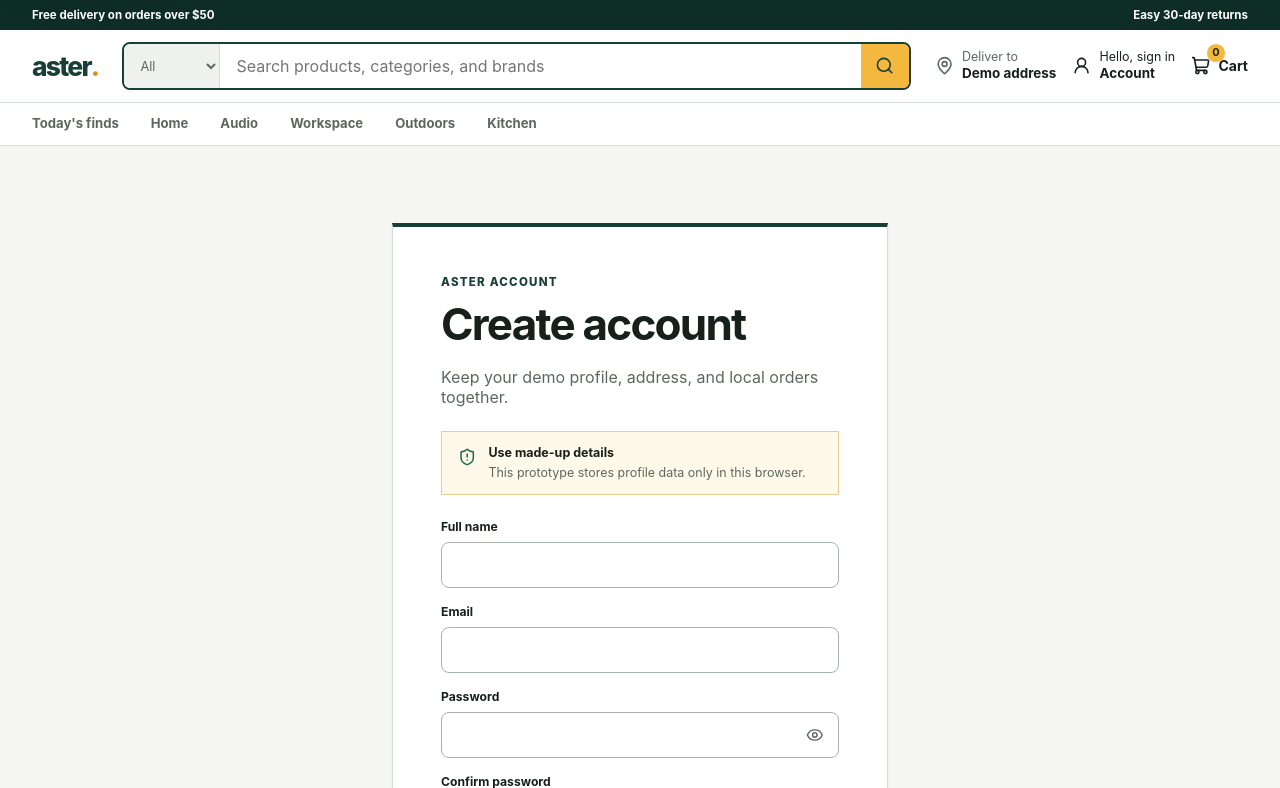
demo account experience › creates a local account without persisting the password
The image size is (1280, 788).
In the field labelled "Full name": (640, 565) [441,542,839,588], type "Jamie Rivera"
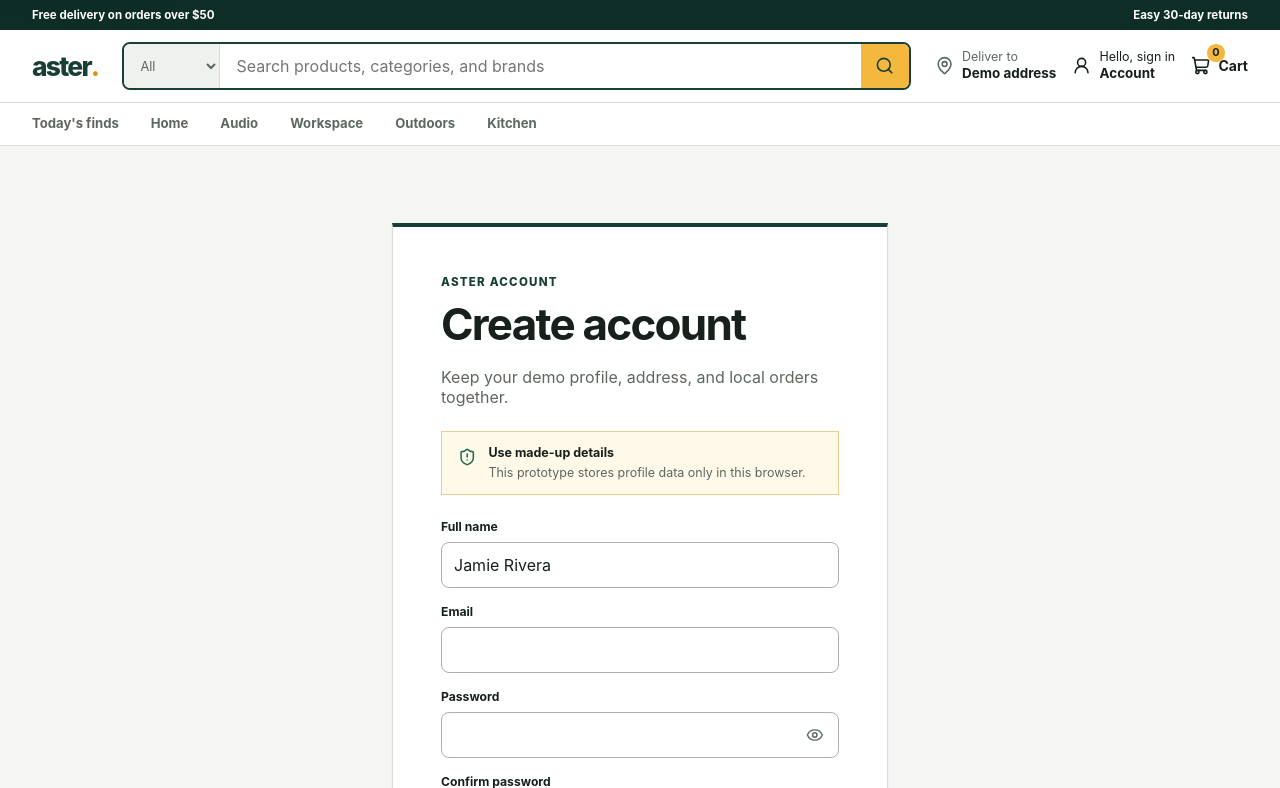
In the field labelled "Email": (640, 650) [441,627,839,673], type "jamie@example.com"
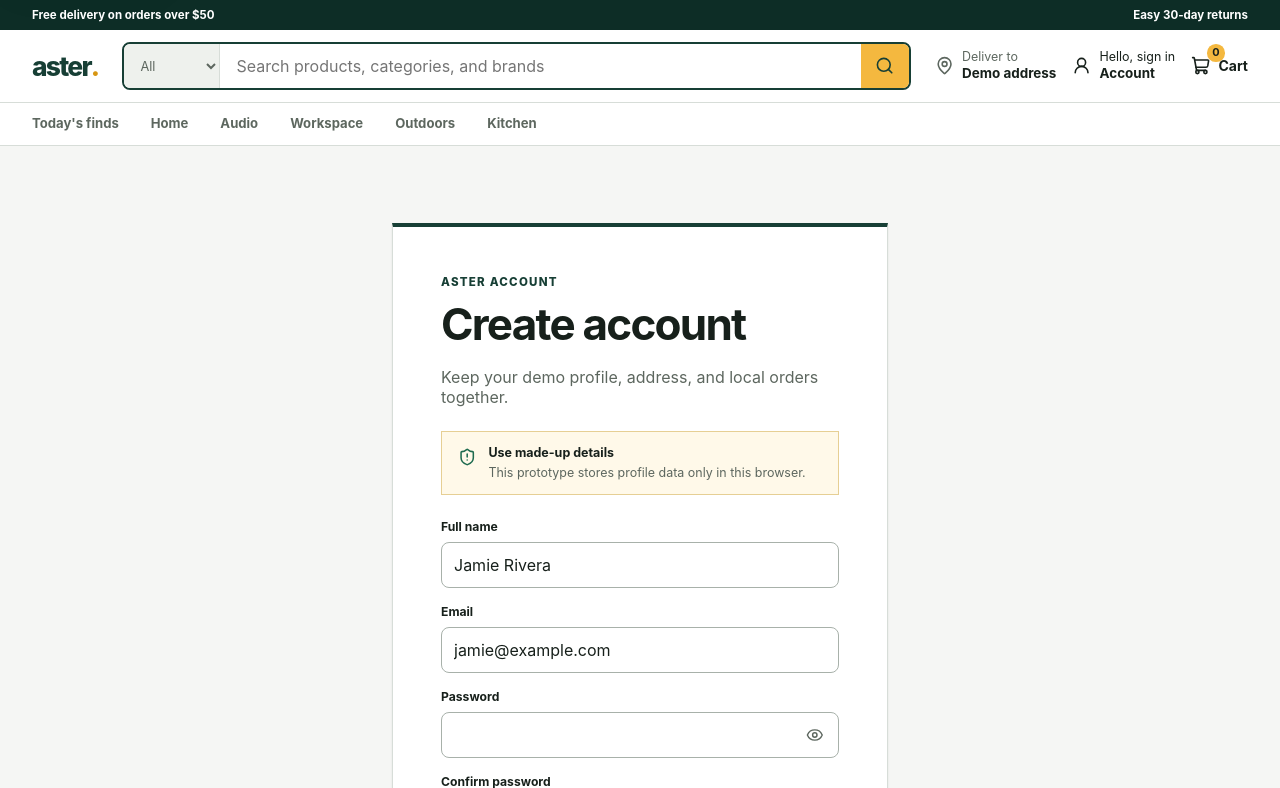
In the password field labelled "Password": (640, 735) [441,712,839,758], type "madeup-password"
(page scrolled)
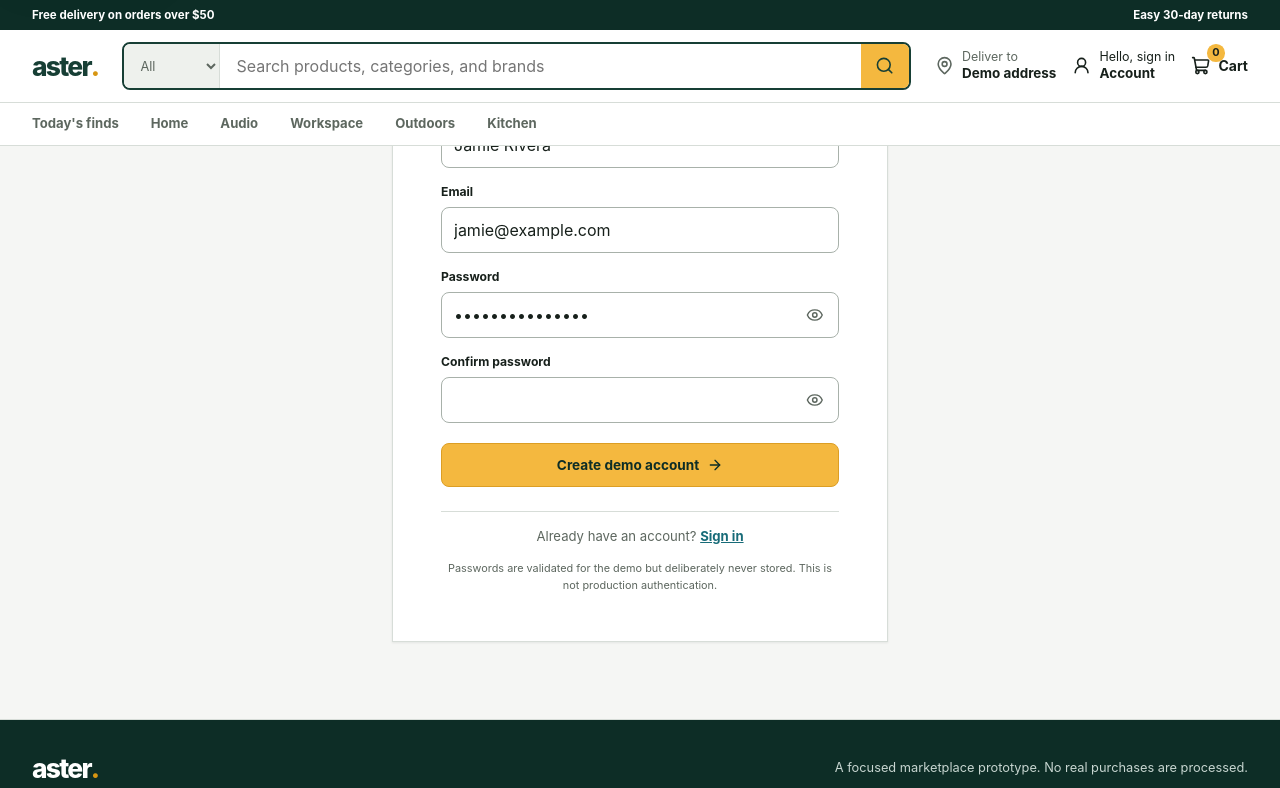
In the password field labelled "Confirm password": (640, 400) [441,377,839,423], type "madeup-password"
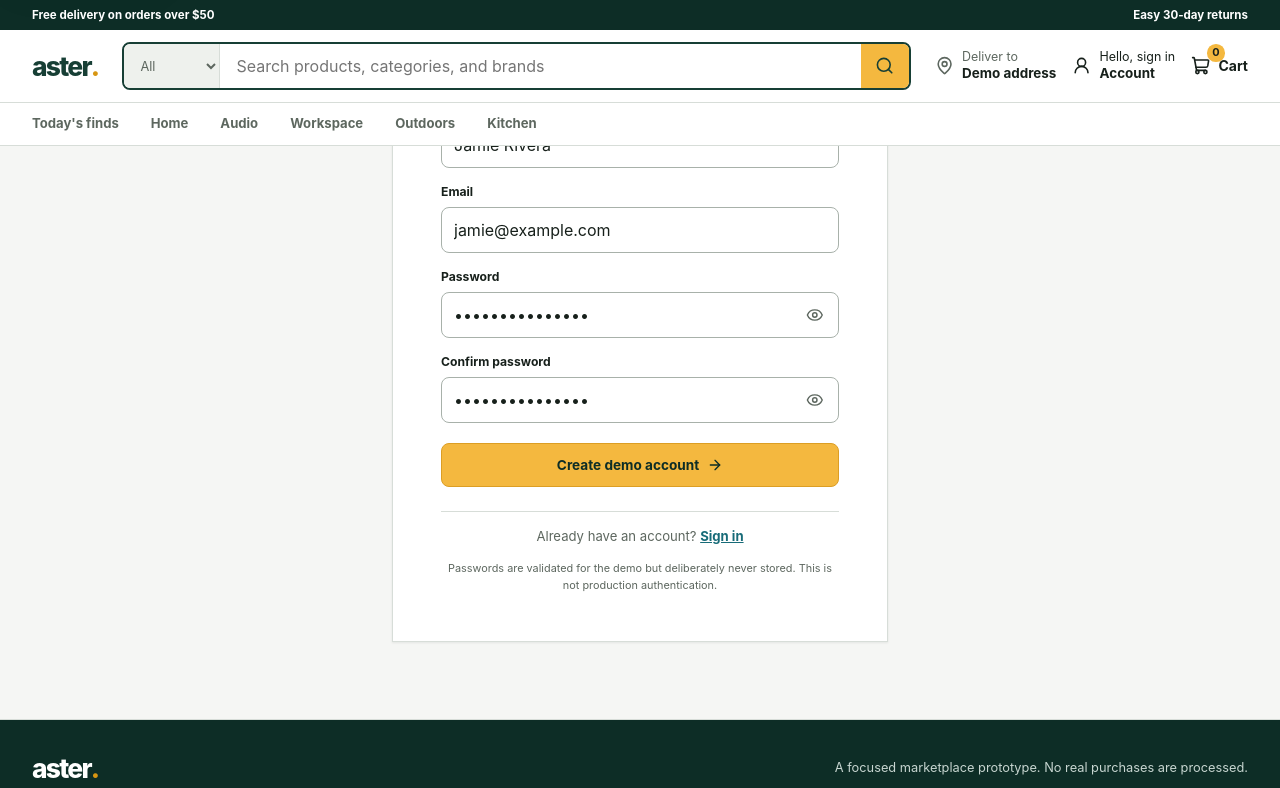
Click the button "Create demo account": click(640, 465) [441,443,839,487]
(page scrolled)
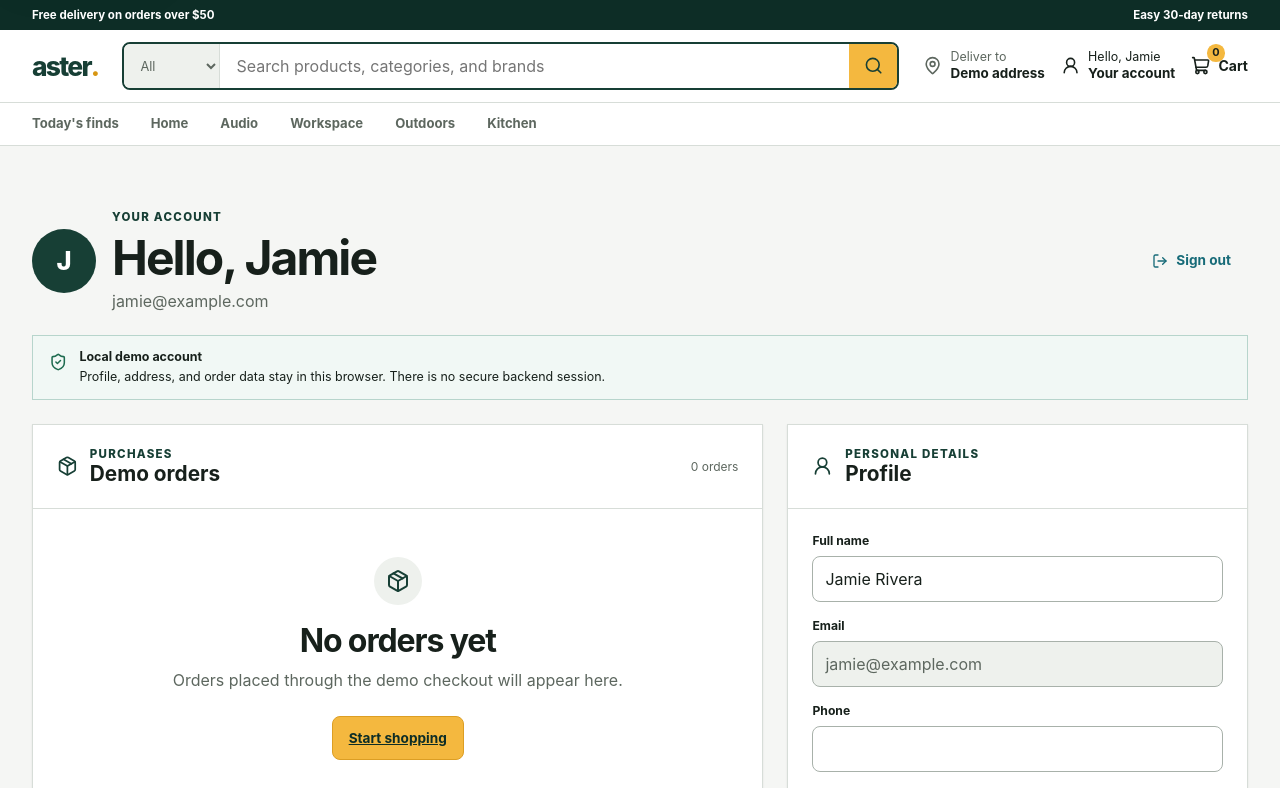
Expected: the heading "Hello, Jamie" is shown, [112,228,376,287]
